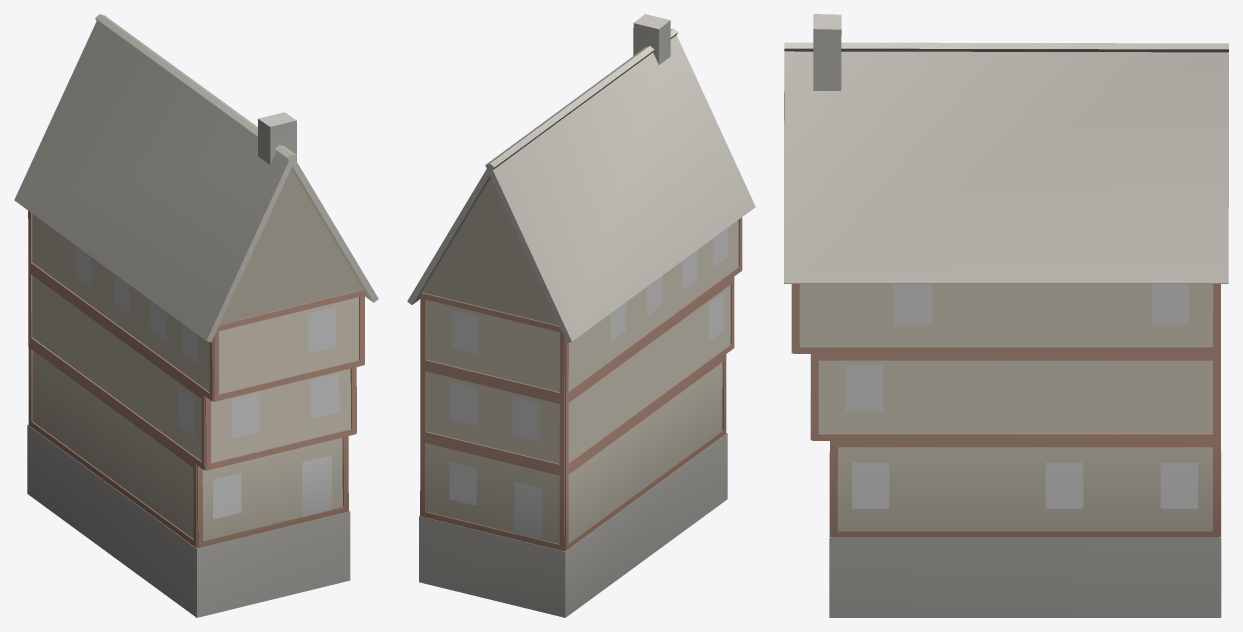
Rendered from townhouse_5.glb.
3 views of the same model, side by side, from view 1: azimuth 30°, elevation 25°; view 2: azimuth 150°, elevation 25°; view 3: azimuth 270°, elevation 25° (orthographic). The views are drawn at different scales.
Visible parts, largest first — view 1: townhouse_5; view 2: townhouse_5; view 3: townhouse_5.
Part boxes in pixels (x1,y1,x2,y2): townhouse_5: (14,14,378,617); townhouse_5: (407,14,755,617); townhouse_5: (784,14,1228,617).
Bounding box in the file's own units: 6.13 × 16.31 × 11.85.
